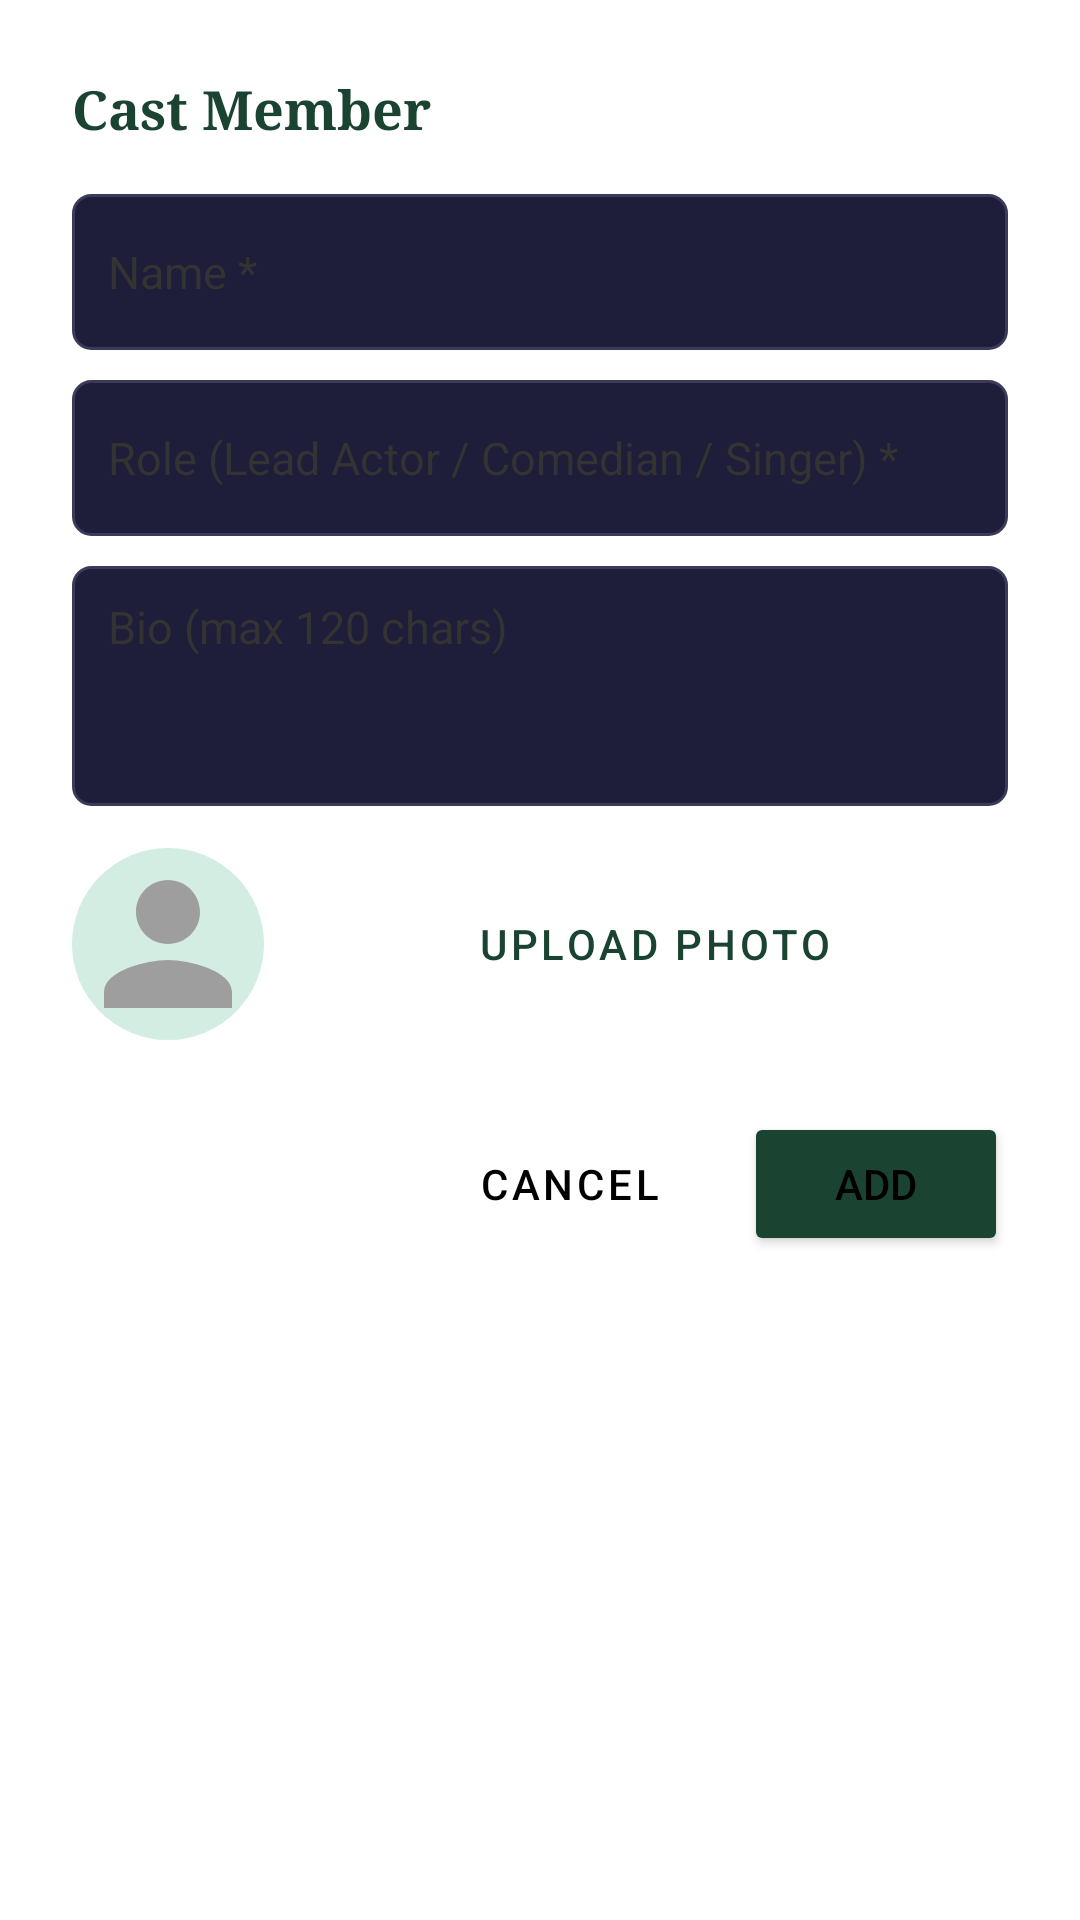

Named icons in this screenshot (1080×1920) and their centers, point (x, y):
person: point (168, 944)
